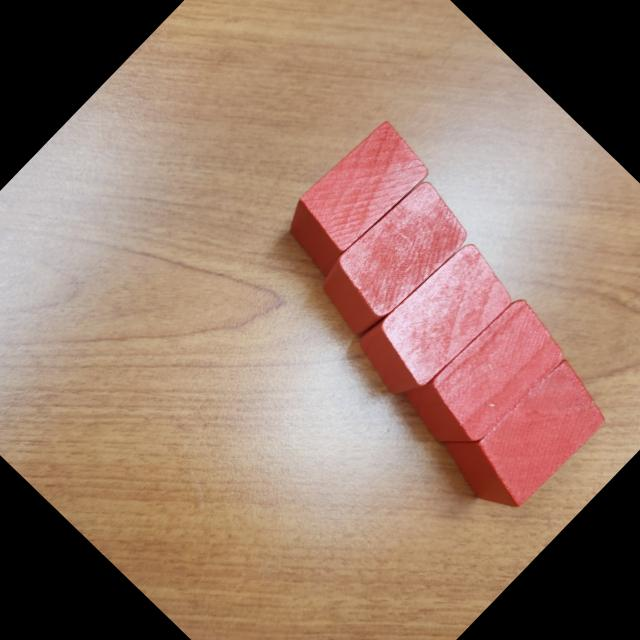red: (429, 336, 618, 526), (392, 284, 575, 470), (346, 233, 522, 411), (307, 172, 478, 346), (273, 114, 436, 279)
